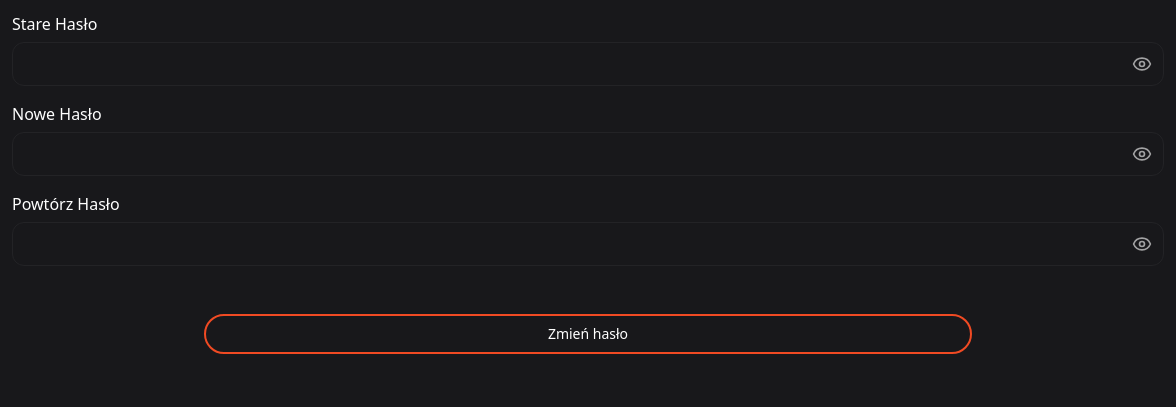
Test: ChangePasswordForm › shows a validation error and does not submit when passwords differ
In the password field labelled "Stare Hasło": (588,64) [12, 42, 1164, 86], type "Stare123!"
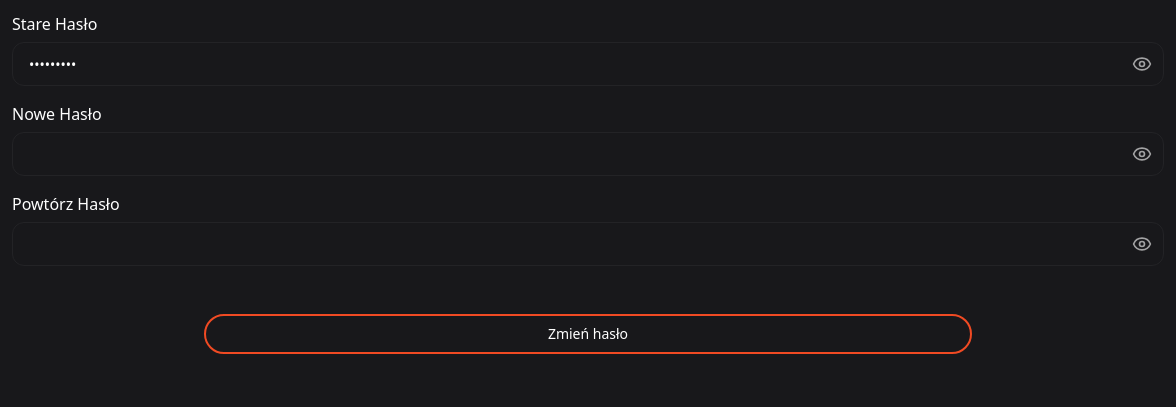
In the password field labelled "Nowe Hasło": (588,154) [12, 132, 1164, 176], type "Trening123!"
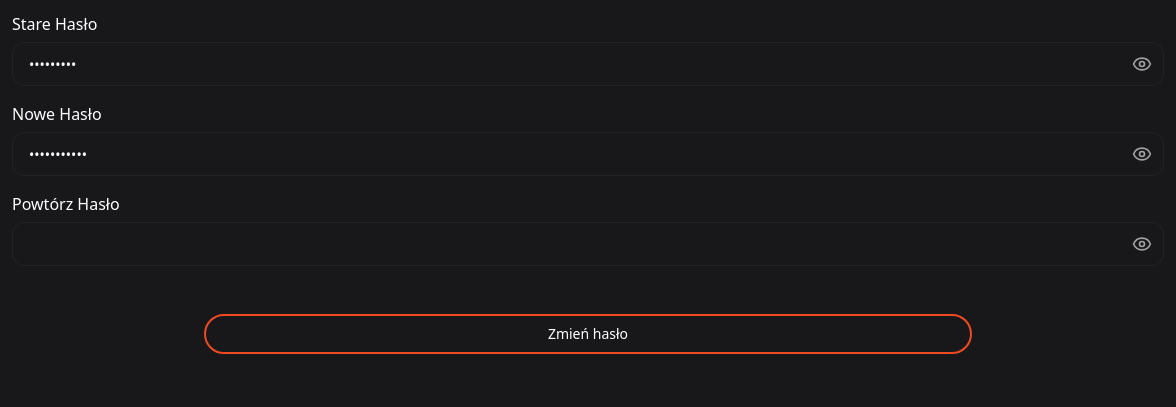
In the password field labelled "Powtórz Hasło": (588,244) [12, 222, 1164, 266], type "Inne123!"
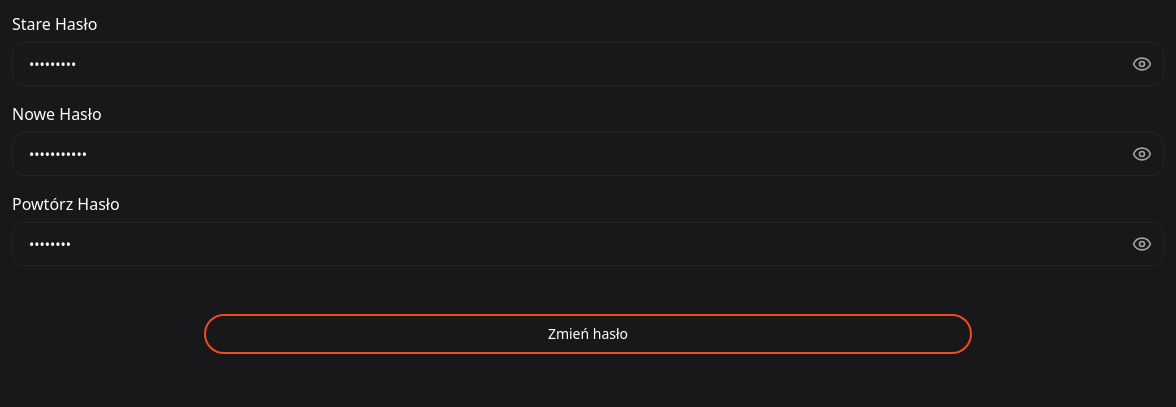
Click the button "Zmień hasło": (588,334) [204, 314, 972, 354]
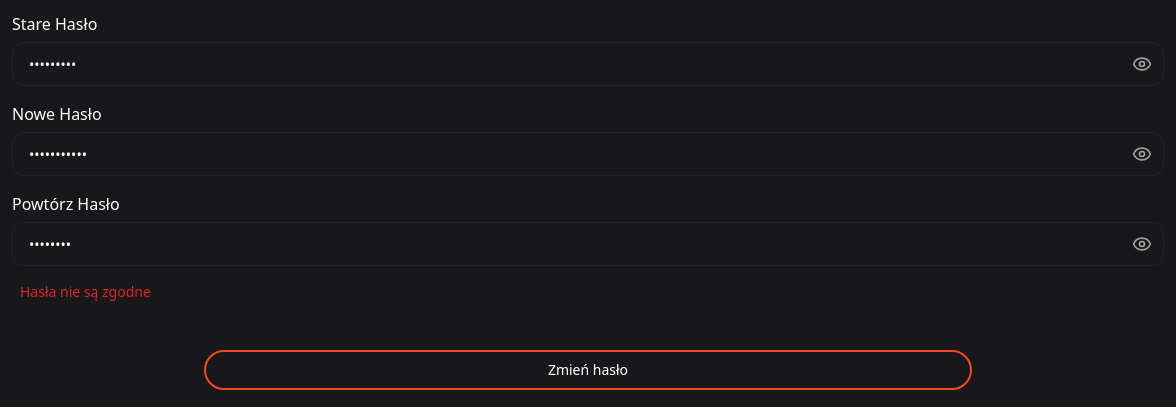
Result: the text "Hasła nie są zgodne" is shown at [20, 282, 151, 301]
